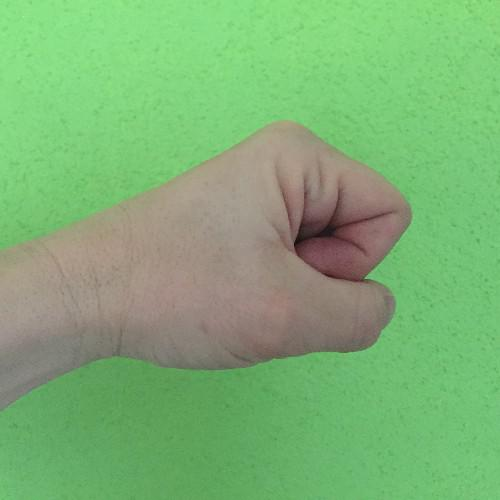rock: (75, 114, 420, 377)
